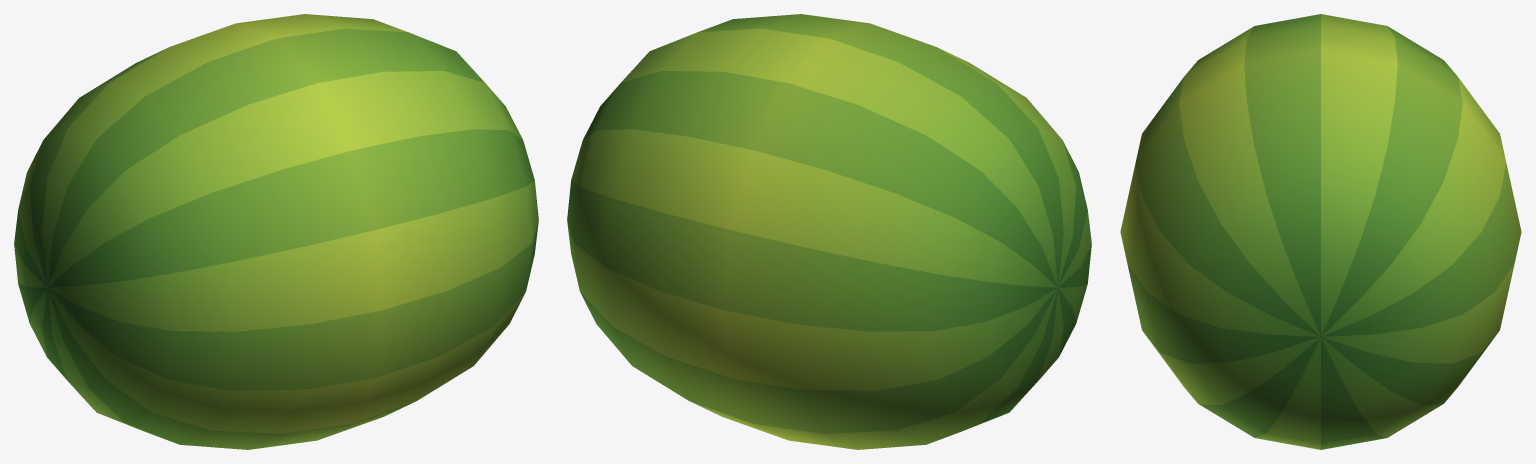
File: Melon_01.glb
3 renders of one model, left to right at view 1: azimuth 30°, elevation 25°; view 2: azimuth 150°, elevation 25°; view 3: azimuth 270°, elevation 25°, orthographic. The views are drawn at different scales.
Visible parts, largest first — view 1: Melon_01; view 2: Melon_01; view 3: Melon_01.
Part boxes in pixels (x1,y1,x2,y2): Melon_01: [14, 14, 538, 449]; Melon_01: [567, 14, 1091, 449]; Melon_01: [1120, 14, 1521, 449].
Size of the model in its own units: 0.6065 by 0.4905 by 0.4905.
Materials: 1 (1 with a texture image).
